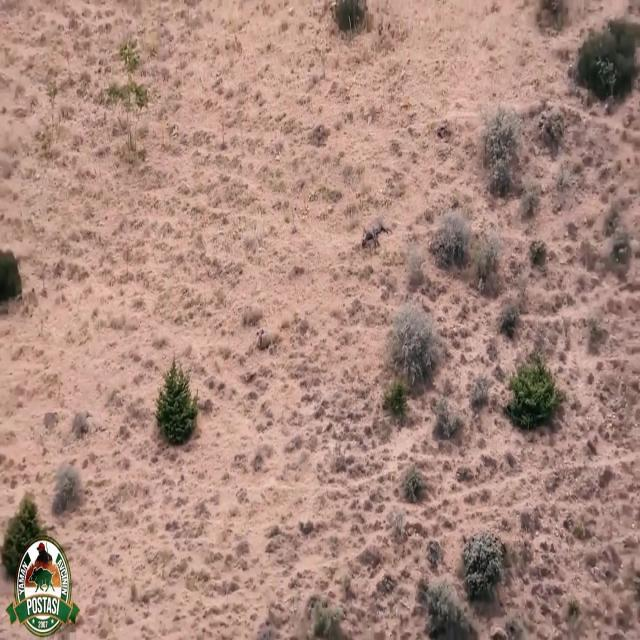pig: (348, 208, 408, 264)
